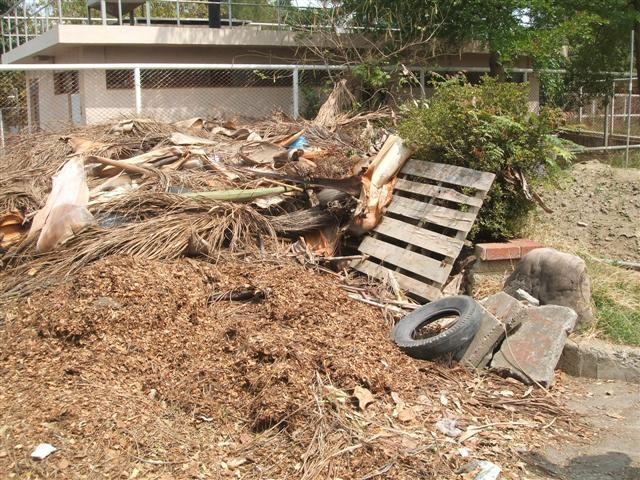tire: (390, 293, 481, 359)
